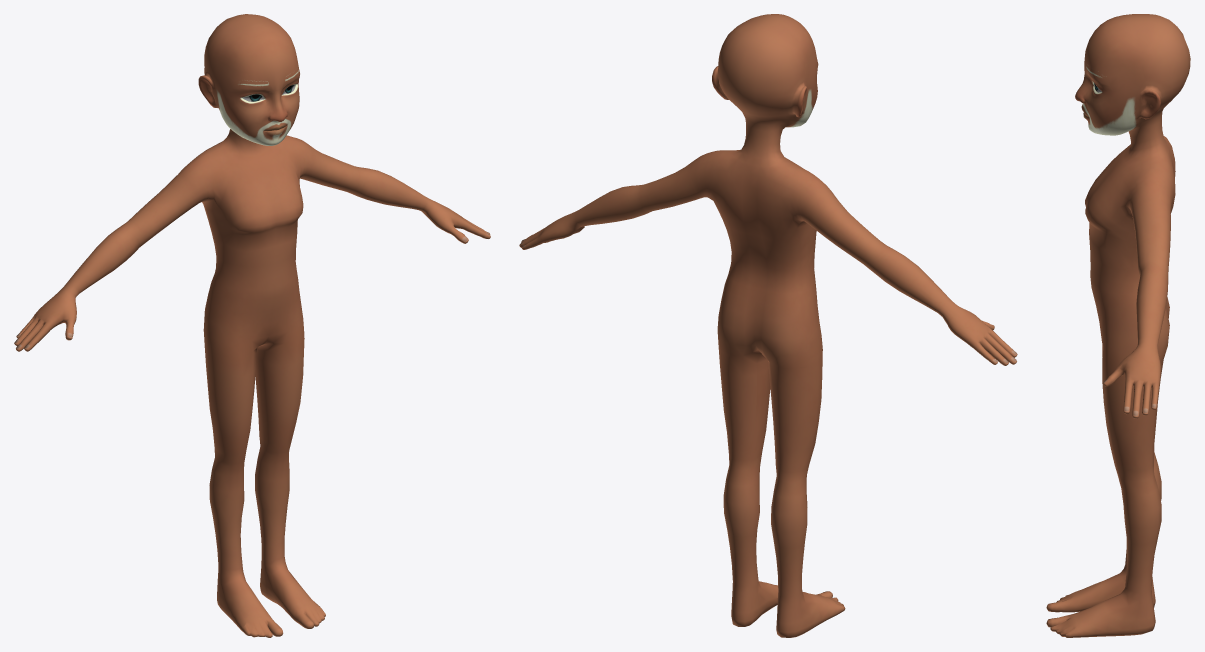
File: frame_0017.glb
3 renders of one model, left to right at view 1: azimuth 30°, elevation 25°; view 2: azimuth 150°, elevation 25°; view 3: azimuth 270°, elevation 25°, orthographic. The views are drawn at different scales.
Parts seen in each view (by area): view 1: frame_0017_head_geo; view 2: frame_0017_head_geo; view 3: frame_0017_head_geo.
Part boxes in pixels (<box>): frame_0017_head_geo: <box>14,14,490,637</box>; frame_0017_head_geo: <box>519,14,1017,637</box>; frame_0017_head_geo: <box>1046,14,1190,637</box>.
Size of the model in its own units: 1.28 by 1.5 by 0.3253.
3 materials, 3 textured.
